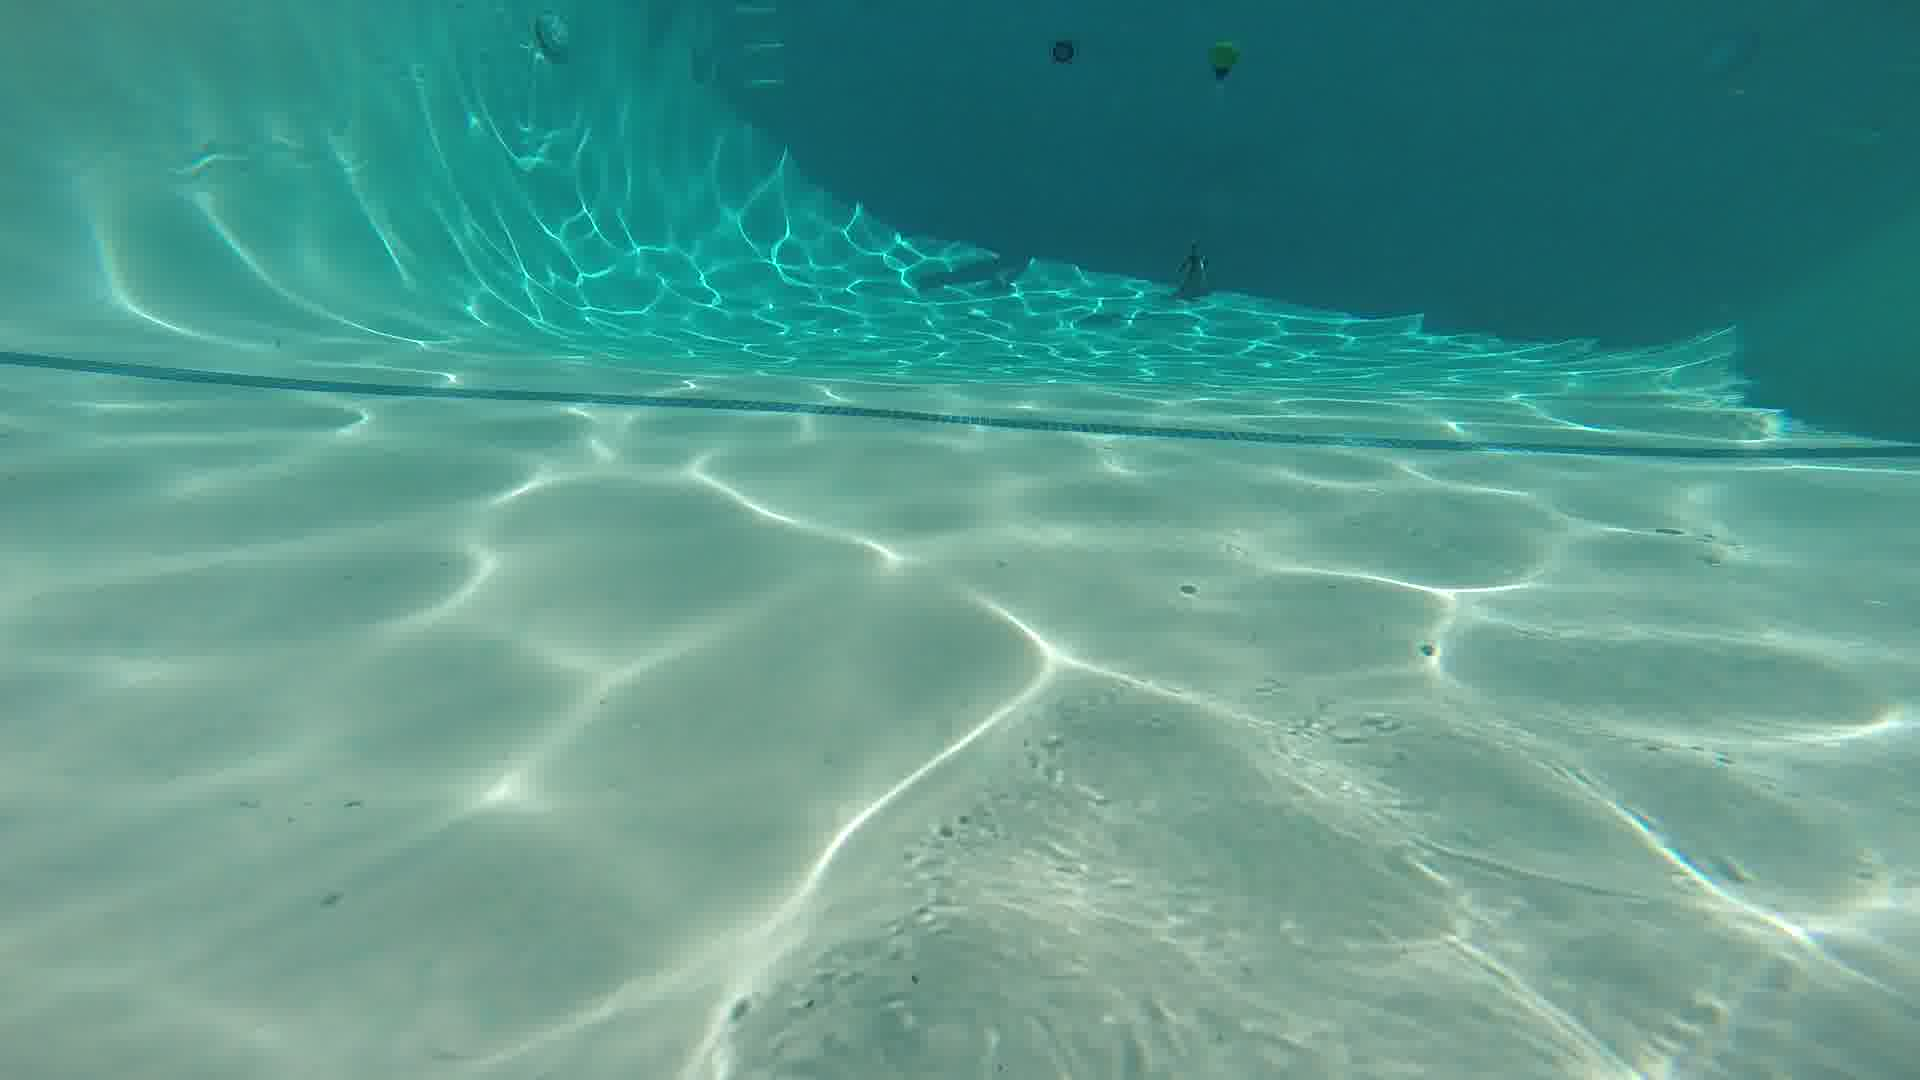yellow buoy: (1207, 36, 1240, 84)
